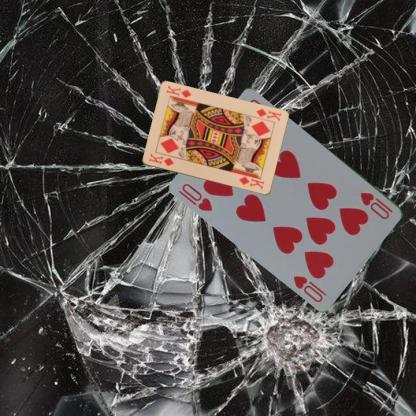10h: (358, 189, 394, 221), (180, 180, 214, 212)
Kd: (146, 150, 175, 167), (254, 106, 282, 122)
